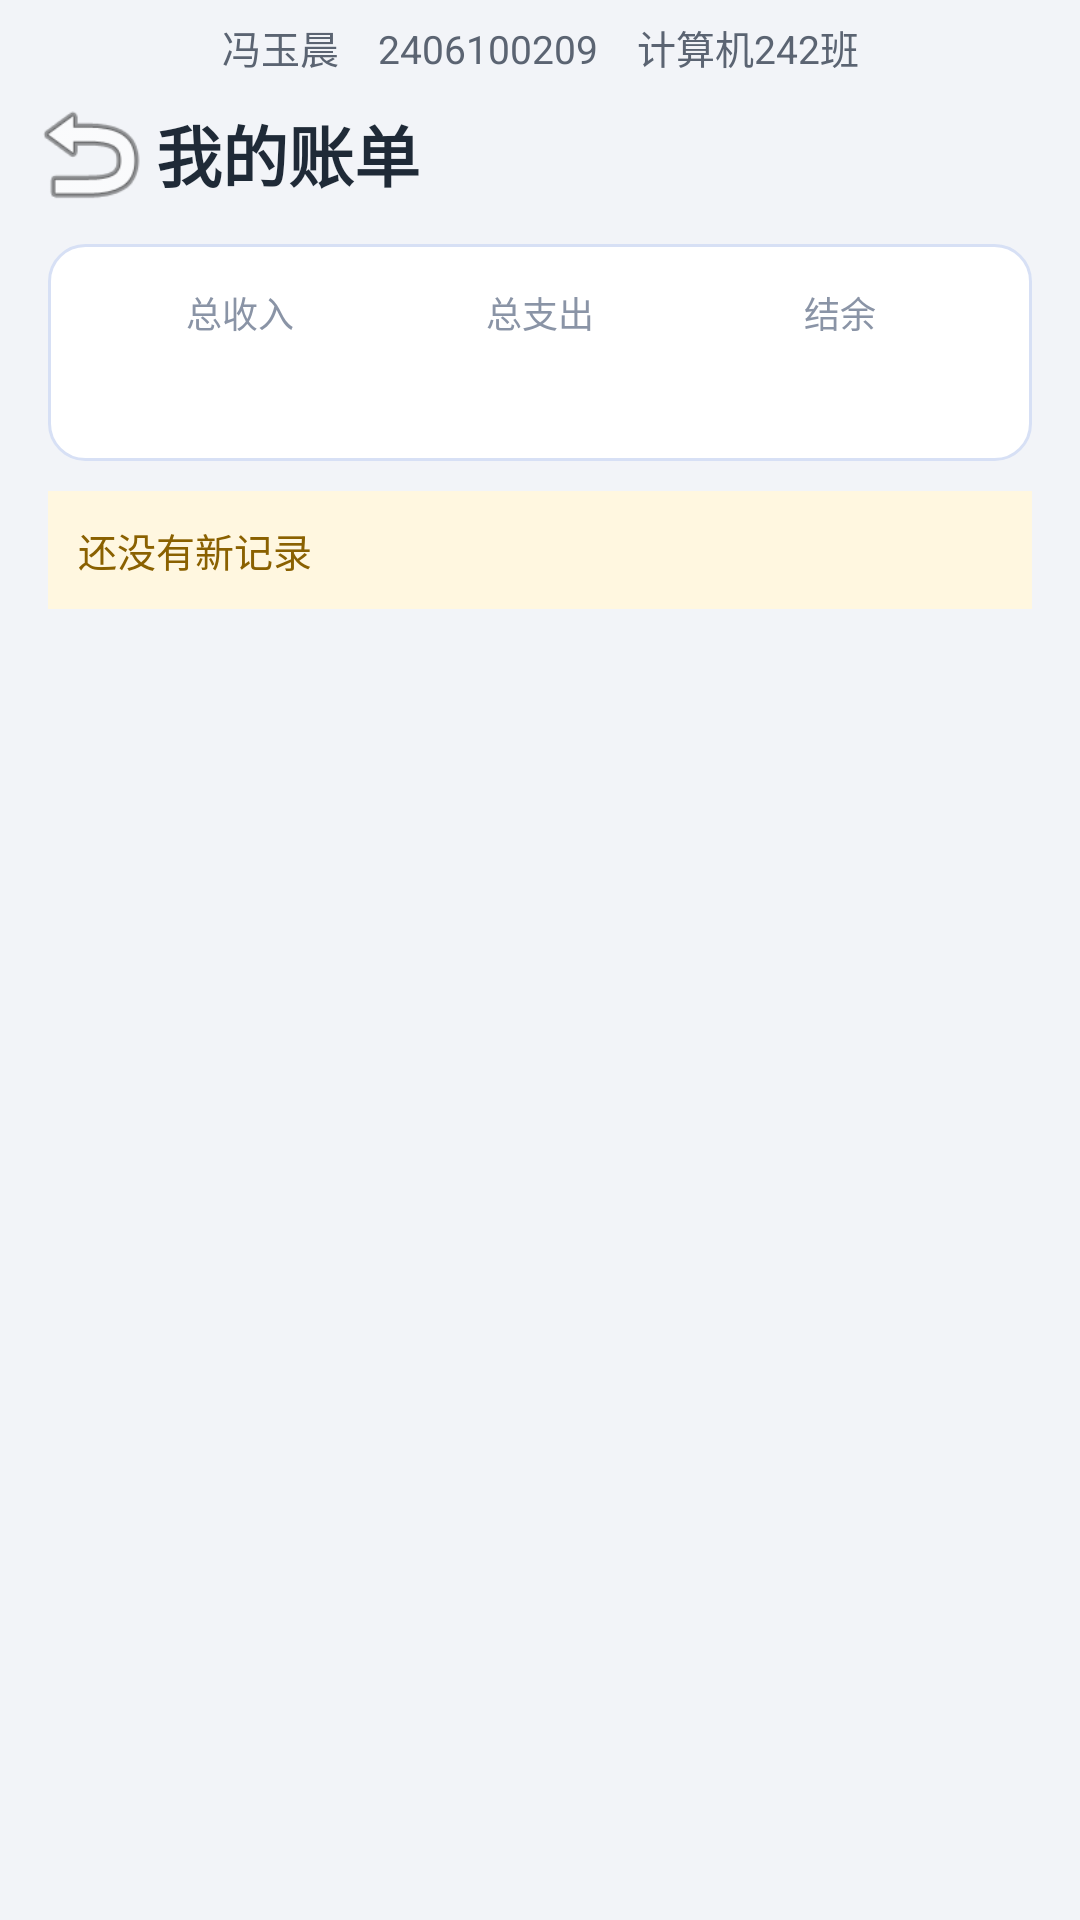

Screen size 1080x1920. Icon name, then its box in pixels as box=[x1, y1, x2, y2]:
返回: box=[44, 112, 140, 198]
